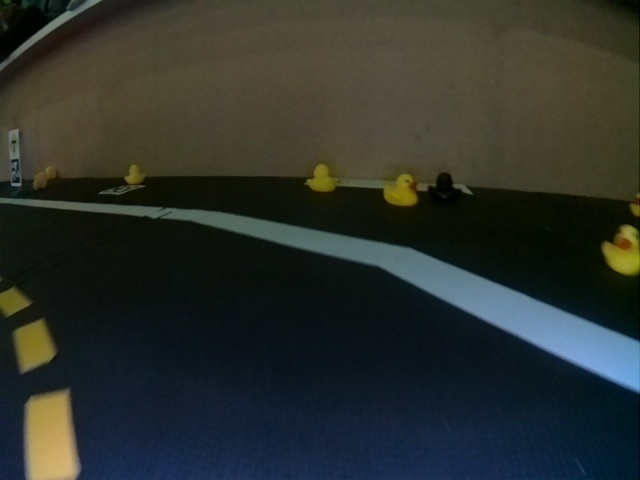Duckie: (601, 224, 638, 274), (384, 175, 418, 206), (429, 173, 459, 202), (308, 165, 338, 190), (125, 166, 145, 184), (33, 172, 47, 188)
Intersection sign: (10, 132, 19, 158)
QR code: (98, 186, 144, 196), (10, 159, 20, 185)
